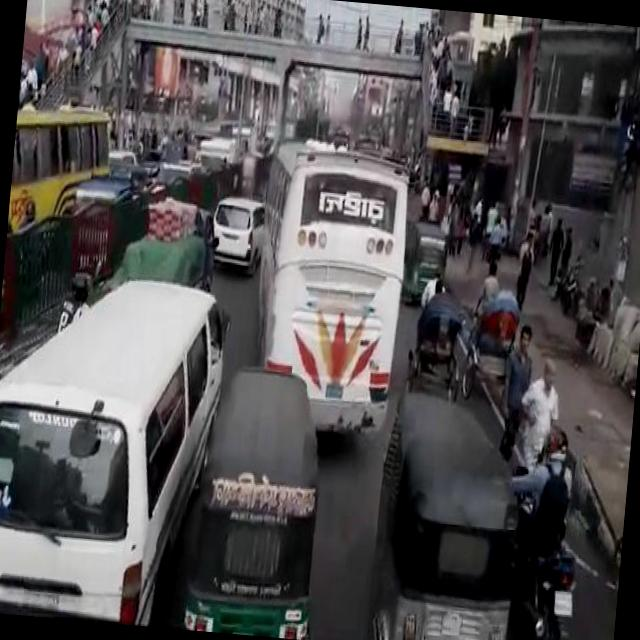bus: (247, 134, 418, 434), (7, 98, 115, 242)
car: (210, 191, 266, 265)
motorcycle: (367, 388, 532, 640), (182, 360, 330, 638), (496, 460, 590, 640), (460, 283, 524, 399), (406, 290, 470, 398), (404, 220, 452, 298)
truck: (0, 263, 231, 627), (114, 198, 221, 286), (190, 133, 242, 179)
